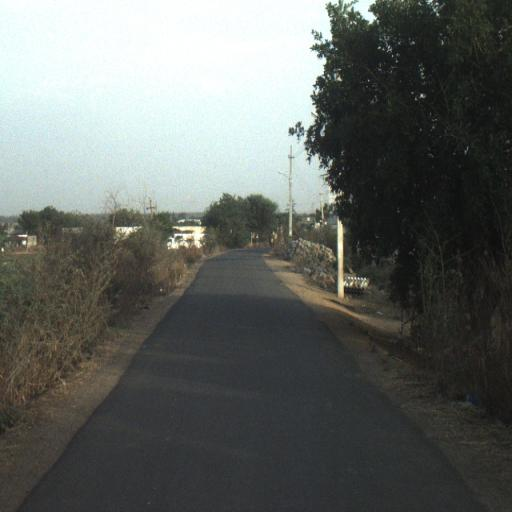street_light_0: (277, 170, 292, 186), (310, 112, 318, 118)
